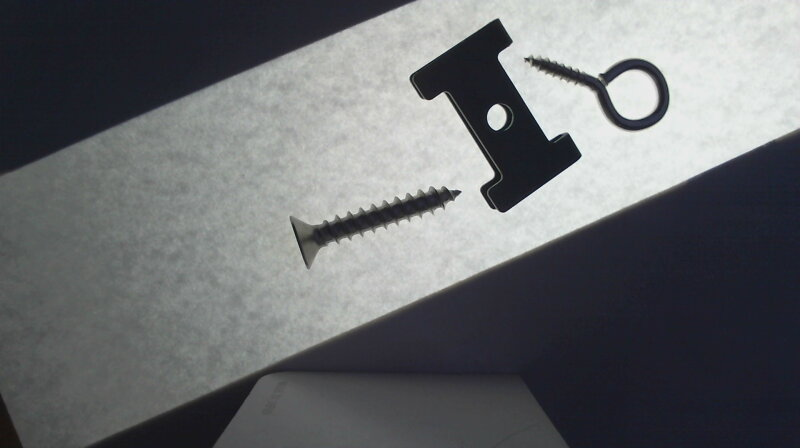O001: (521, 52, 671, 133)
O002: (405, 17, 583, 212)
S001: (289, 185, 463, 269)
